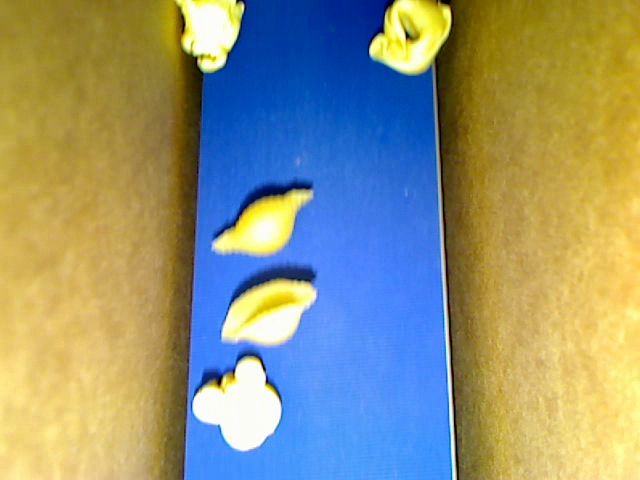shell: (210, 188, 314, 258), (220, 276, 318, 347)
tortellini: (369, 1, 451, 77)
